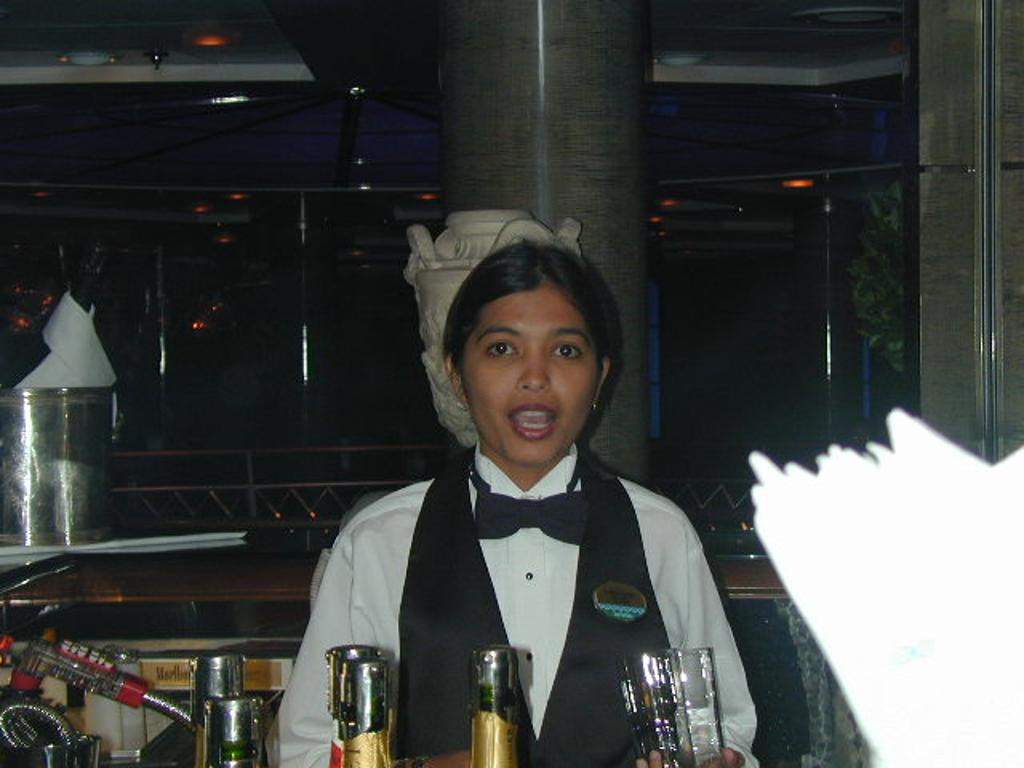face: (458, 276, 600, 464)
